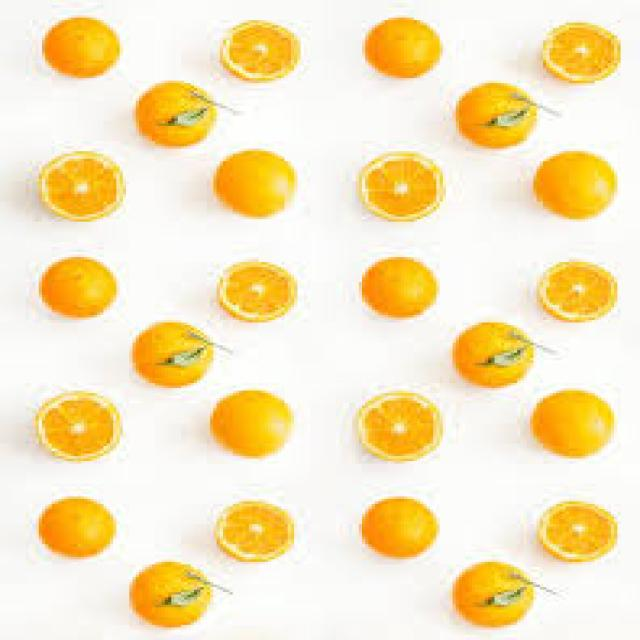orange: (121, 74, 232, 162), (215, 384, 304, 468)
